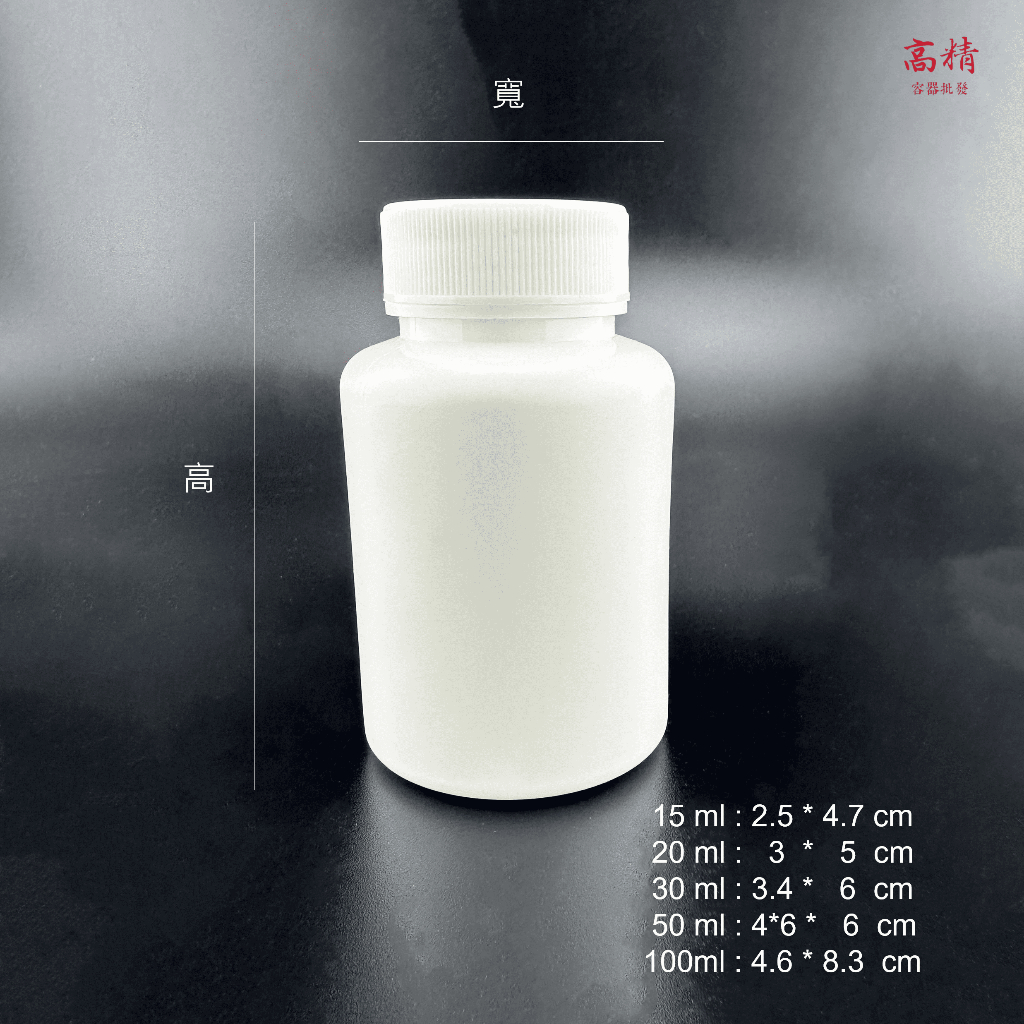medicinejar: (304, 183, 675, 796)
